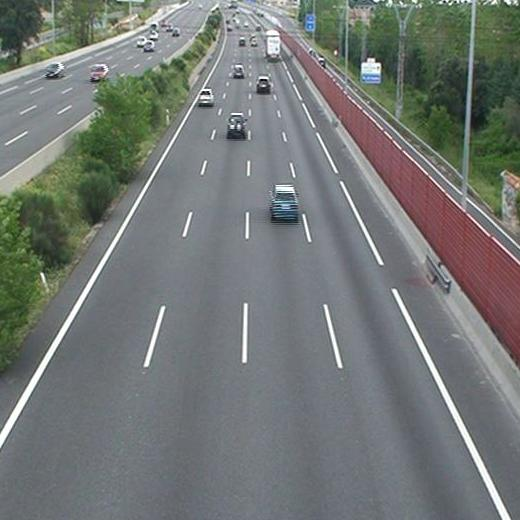car: (271, 185, 298, 219), (228, 113, 245, 135), (199, 90, 214, 105), (256, 77, 270, 92), (233, 66, 244, 77), (238, 37, 246, 47)
truck: (266, 31, 280, 61)
